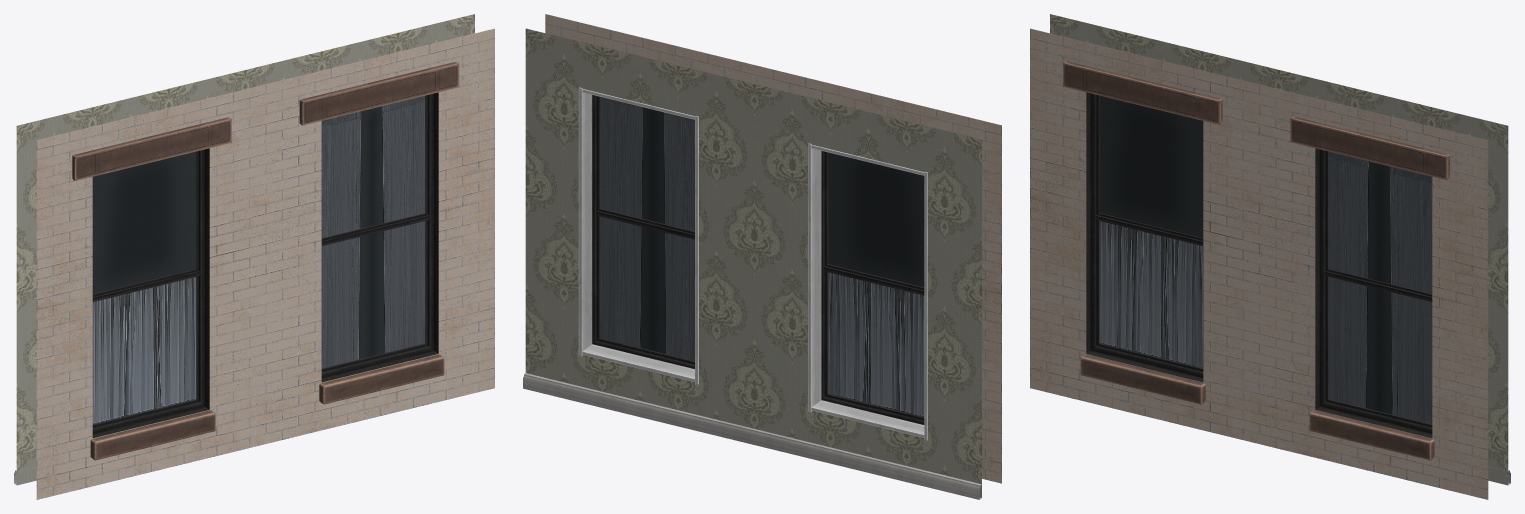
Rendered from House_06_Window_02.fbx.
The picture shows the model from 3 angles, left to right: view 1: azimuth 30°, elevation 25°; view 2: azimuth 150°, elevation 25°; view 3: azimuth 330°, elevation 25°; orthographic projection.
Parts seen in each view (by area): view 1: House_06_Window_02_LOD0; view 2: House_06_Window_02_LOD0; view 3: House_06_Window_02_LOD0.
Part boxes in pixels (x1,y1,x2,y2): House_06_Window_02_LOD0: [14, 14, 494, 499]; House_06_Window_02_LOD0: [523, 14, 1001, 499]; House_06_Window_02_LOD0: [1030, 14, 1510, 499].
Size of what is drawn, in the model's own units: 400 by 300 by 40.16.
